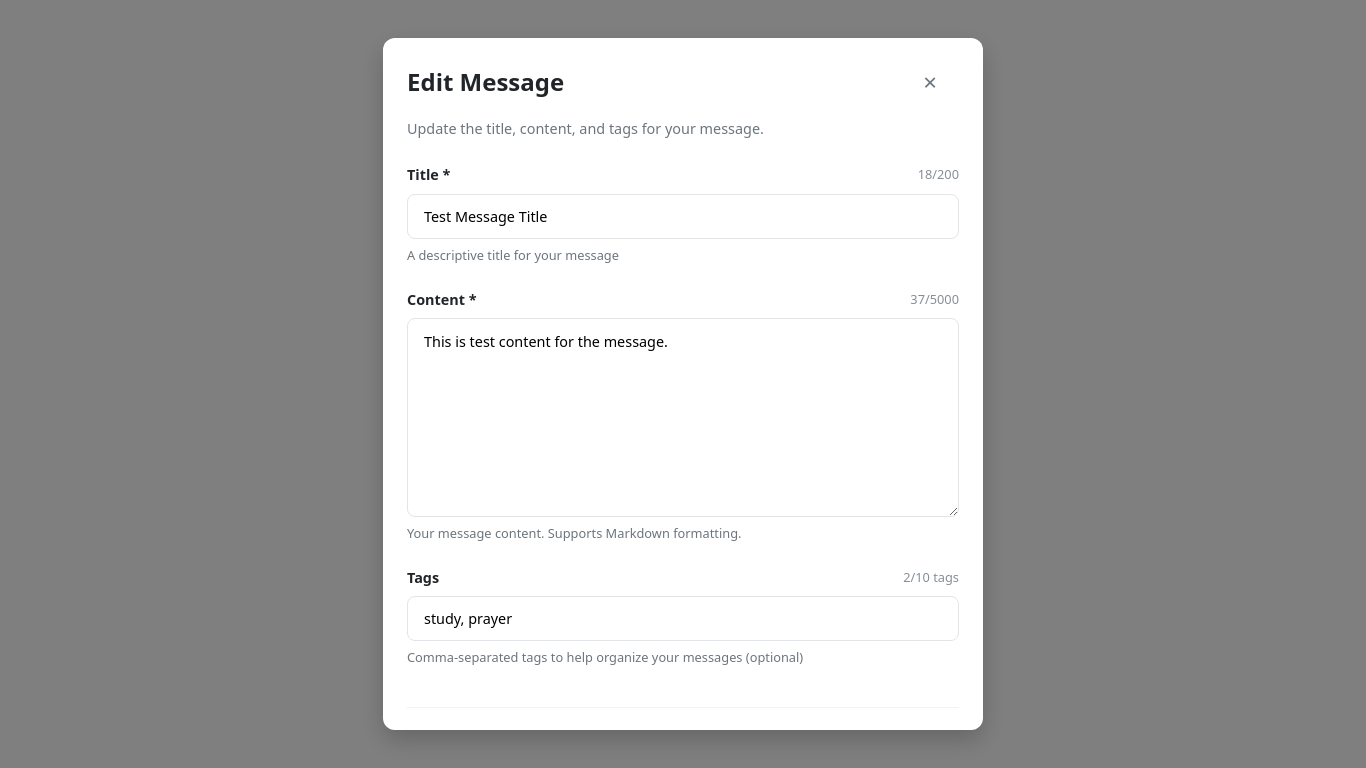
MessageEditModal › Form Validation › updates character count as user types
Replace the text in the field labelled "Title * 18/200" with "New Title" at [683, 216], box x1=407 y1=194 x2=959 y2=239
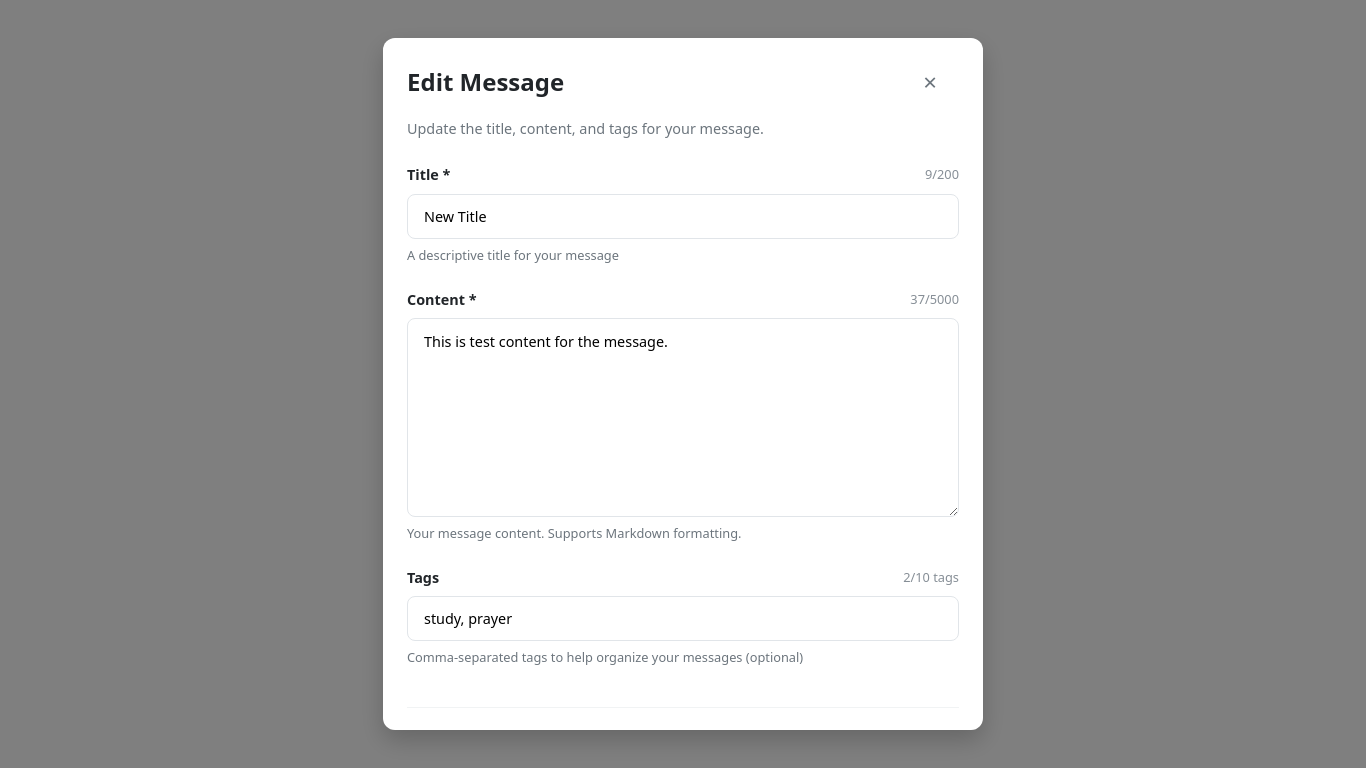
expect the text with class "message-edit-modal__char-count" reads "9/200": met, box x1=925 y1=165 x2=959 y2=184
